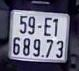1: (52, 17, 60, 38)
3: (56, 38, 64, 60)
5: (18, 14, 28, 36)
6: (12, 35, 21, 57)
7: (45, 36, 54, 60)
8: (22, 36, 32, 58)
9: (27, 13, 37, 37), (32, 37, 42, 61)
E: (43, 15, 54, 39)
